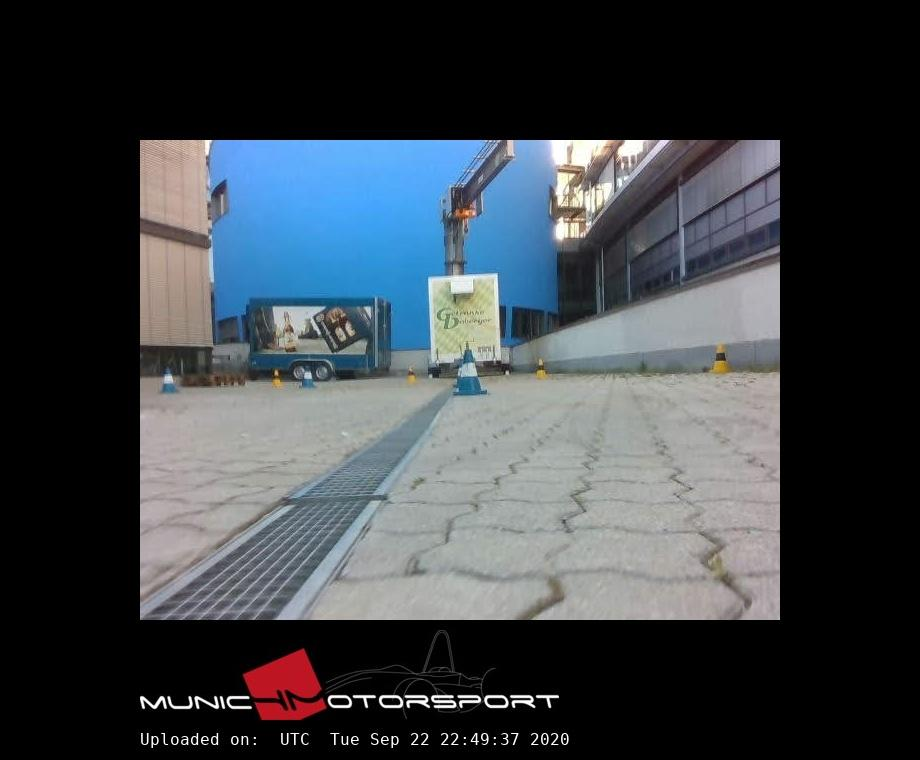blue_cone: (453, 350, 486, 395), (158, 367, 178, 393), (300, 366, 317, 389), (454, 359, 462, 388)
yellow_cone: (710, 344, 730, 373), (535, 359, 547, 379), (271, 369, 283, 387), (405, 365, 416, 380)
